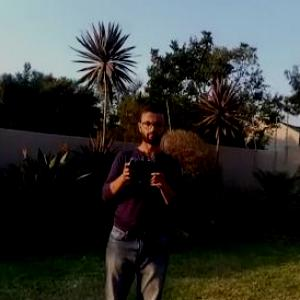follow: (93, 90, 192, 299)
